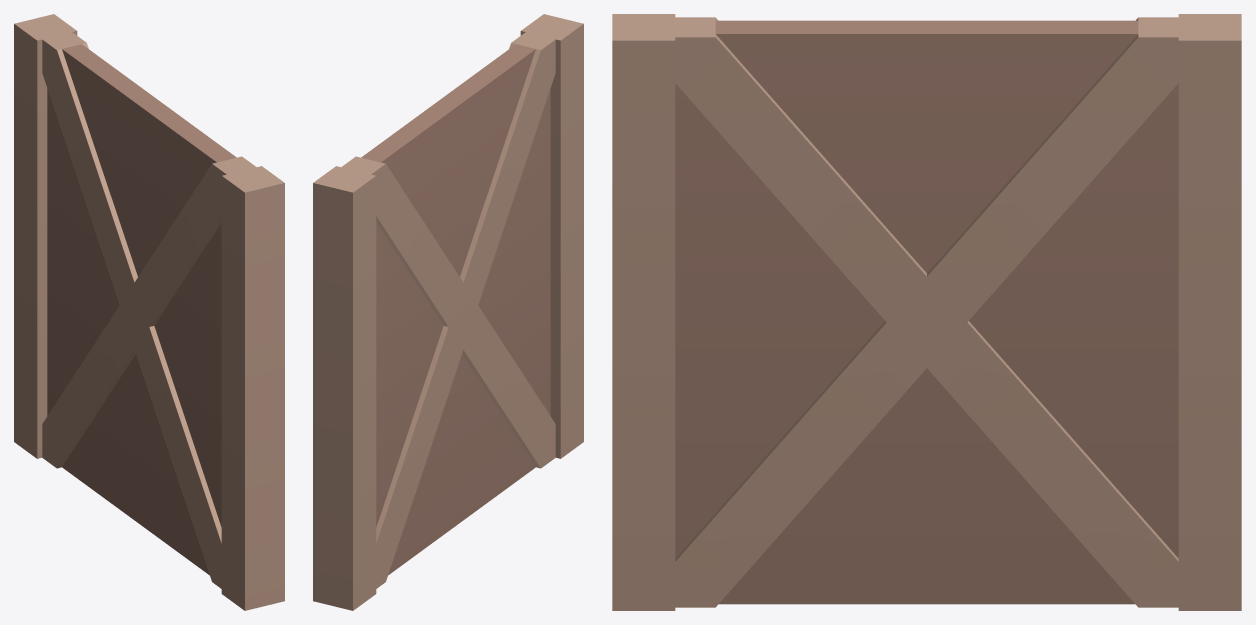
File: wall-wood-detail-cross.glb
3 views of the same model, side by side, from view 1: azimuth 30°, elevation 25°; view 2: azimuth 150°, elevation 25°; view 3: azimuth 270°, elevation 25° (orthographic). The views are drawn at different scales.
Parts seen in each view (by area): view 1: wall-wood-detail-cross; view 2: wall-wood-detail-cross; view 3: wall-wood-detail-cross.
Boxes of the visible parts, x1,y1,x2,y2 form: wall-wood-detail-cross: (14, 14, 284, 610); wall-wood-detail-cross: (313, 14, 583, 610); wall-wood-detail-cross: (612, 14, 1241, 610).
Bounding box in the file's own units: 0.1 × 1 × 1.
